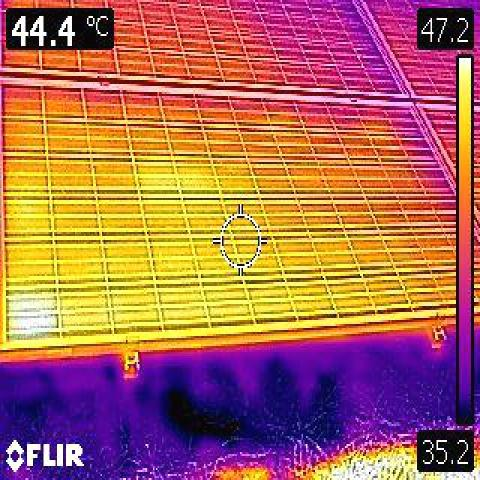fault: (7, 289, 58, 335)
